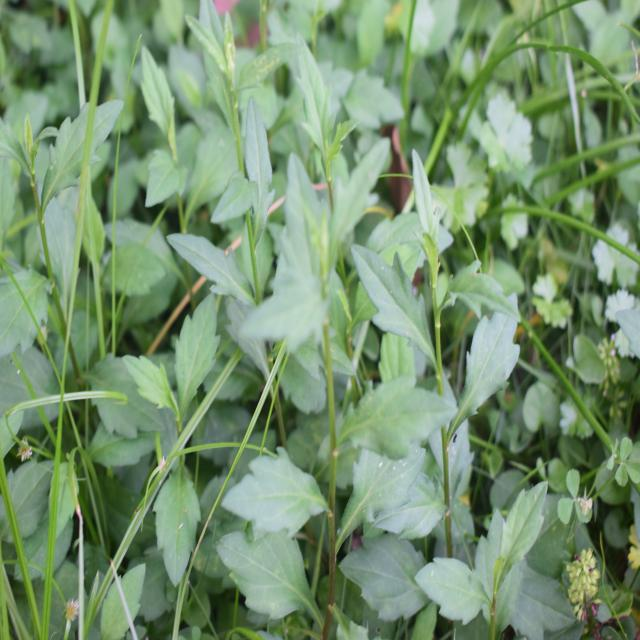Indian aster: (264, 79, 426, 601), (402, 177, 554, 628), (150, 0, 294, 440)
